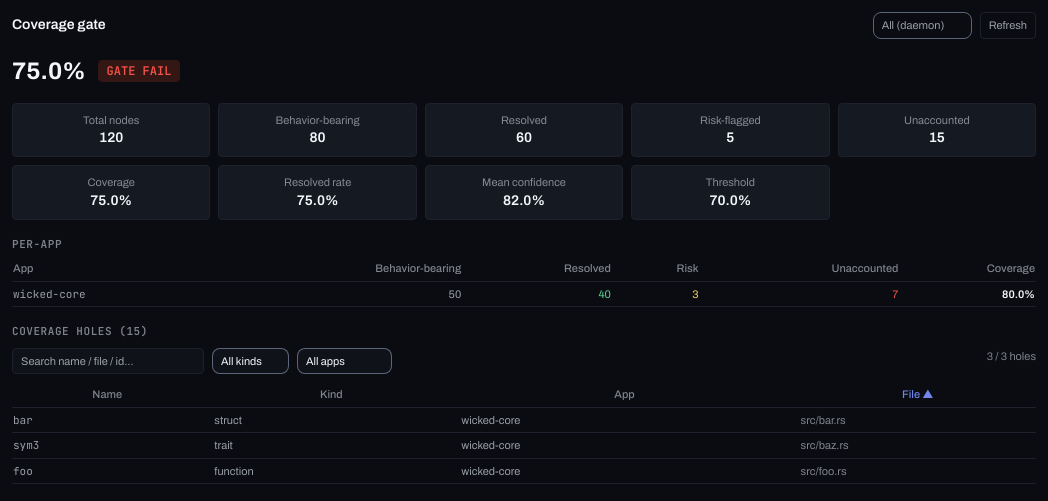
Test case: CoverageView › filters unaccounted nodes by search query
Check: the text "foo" is shown, box [12,458,213,484]
Type "foo" into the field labelled "Search name / file / id…". click: (108, 361)
box: [12,348,204,374]
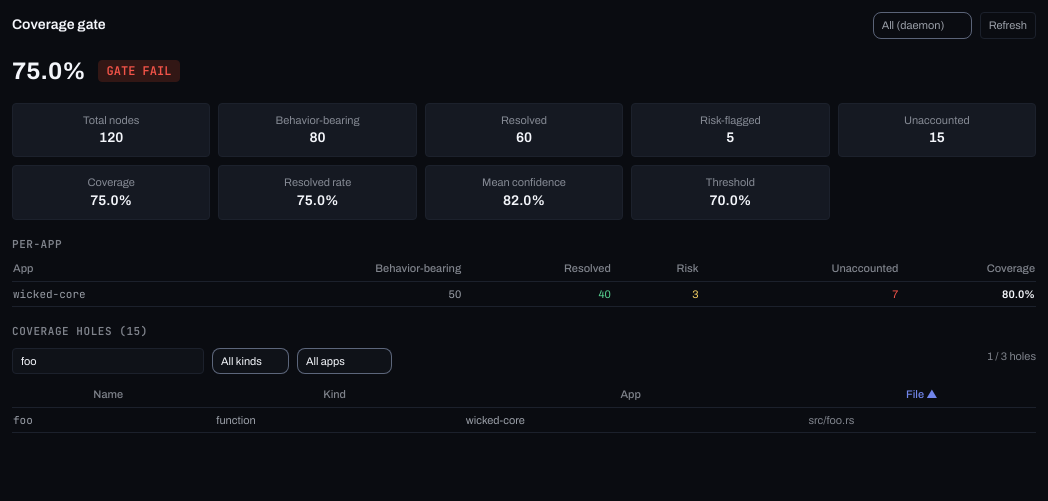
Check: the text "foo" is shown, box [12,407,215,432]
Check: the text "bar" is gone
